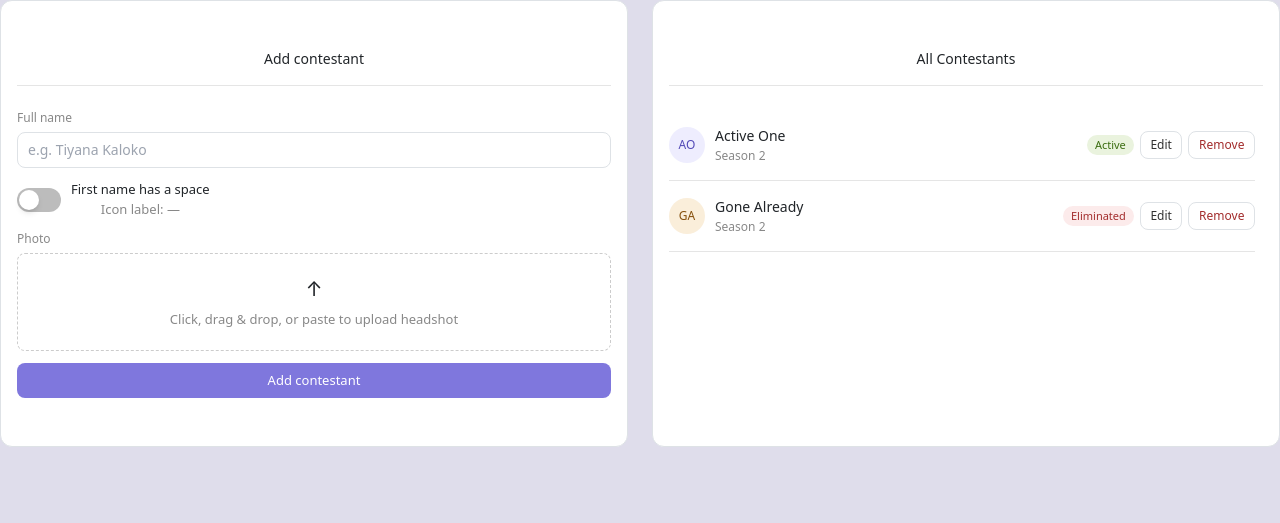
it: AdminContestants › switches the card to Edit mode with the name pre-filled, and Cancel switches back
Click the button "Edit" in the row of "Active One".
click(1161, 145)  # box left=1140, top=131, right=1182, bottom=159
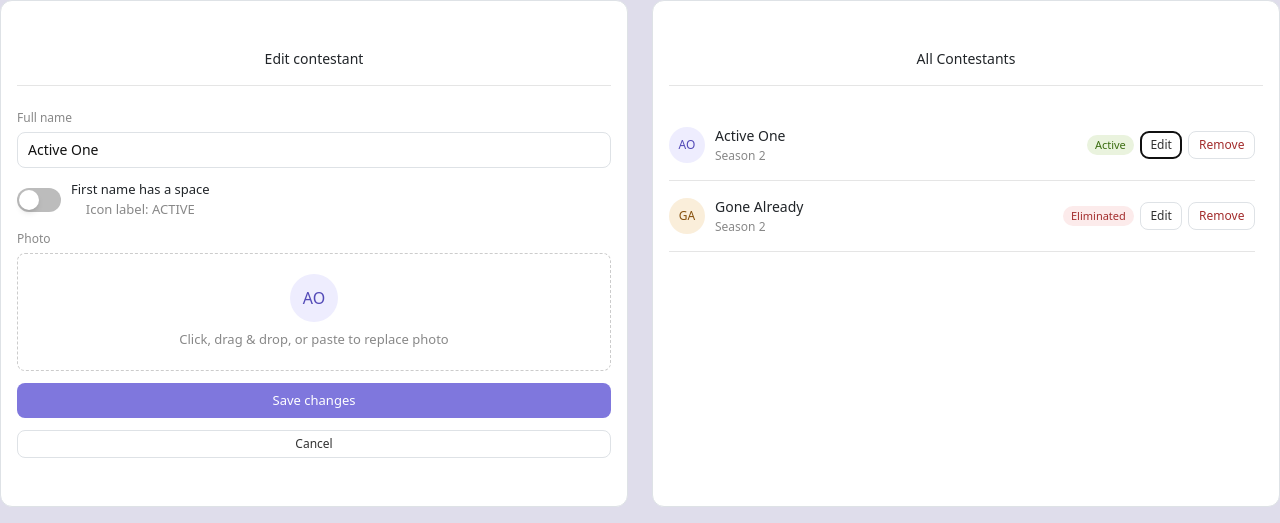
Expected: the text "Edit contestant" is shown, left=17, top=49, right=611, bottom=86
Expected: the field with placeholder "e.g. Tiyana Kaloko" holds "Active One", left=17, top=132, right=611, bottom=168
Expected: the text "Click, drag & drop, or paste to replace photo" is shown, left=179, top=330, right=449, bottom=348
Click the button "Cancel".
click(314, 444)  # box left=17, top=430, right=611, bottom=458
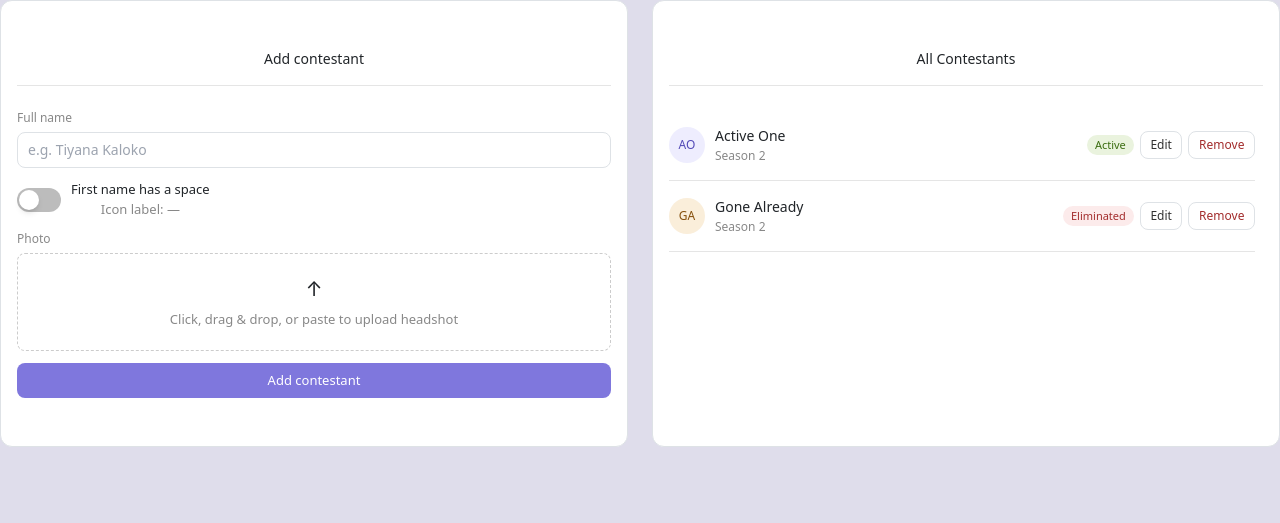
Expected: the button "Add contestant" is shown, left=17, top=363, right=611, bottom=398
Expected: the field with placeholder "e.g. Tiyana Kaloko" is empty, left=17, top=132, right=611, bottom=168
